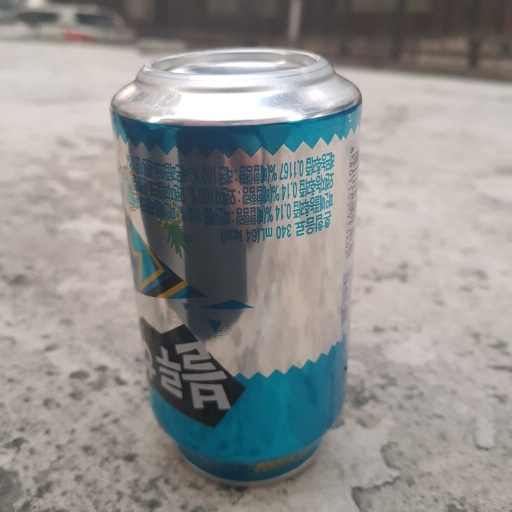Metal_0: (107, 46, 365, 479)
